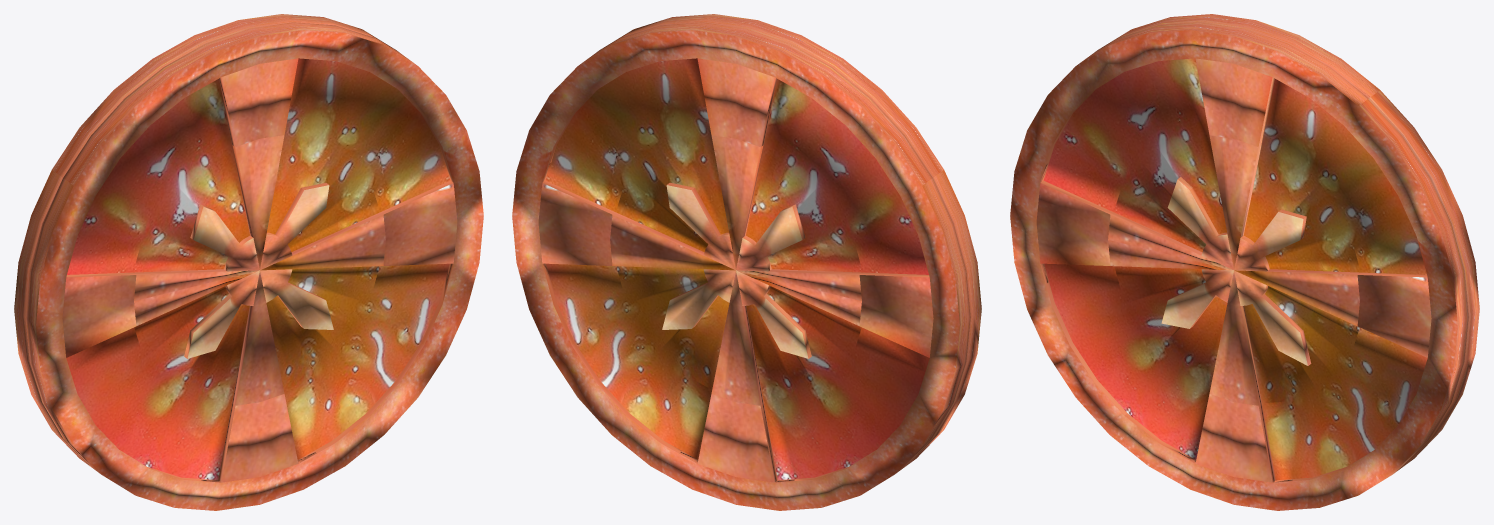
Rendered from tomato.fbx.
The picture shows the model from 3 angles, left to right: view 1: azimuth 30°, elevation 25°; view 2: azimuth 150°, elevation 25°; view 3: azimuth 330°, elevation 25°; orthographic projection.
Parts seen in each view (by area): view 1: Cylinder; view 2: Cylinder; view 3: Cylinder.
Part boxes in pixels (x1=…): Cylinder: x1=14, y1=14, x2=483, y2=510; Cylinder: x1=512, y1=14, x2=981, y2=510; Cylinder: x1=1010, y1=14, x2=1479, y2=510.
Size of the model in its own units: 2 by 2 by 0.1695.
1 material, 1 textured.
